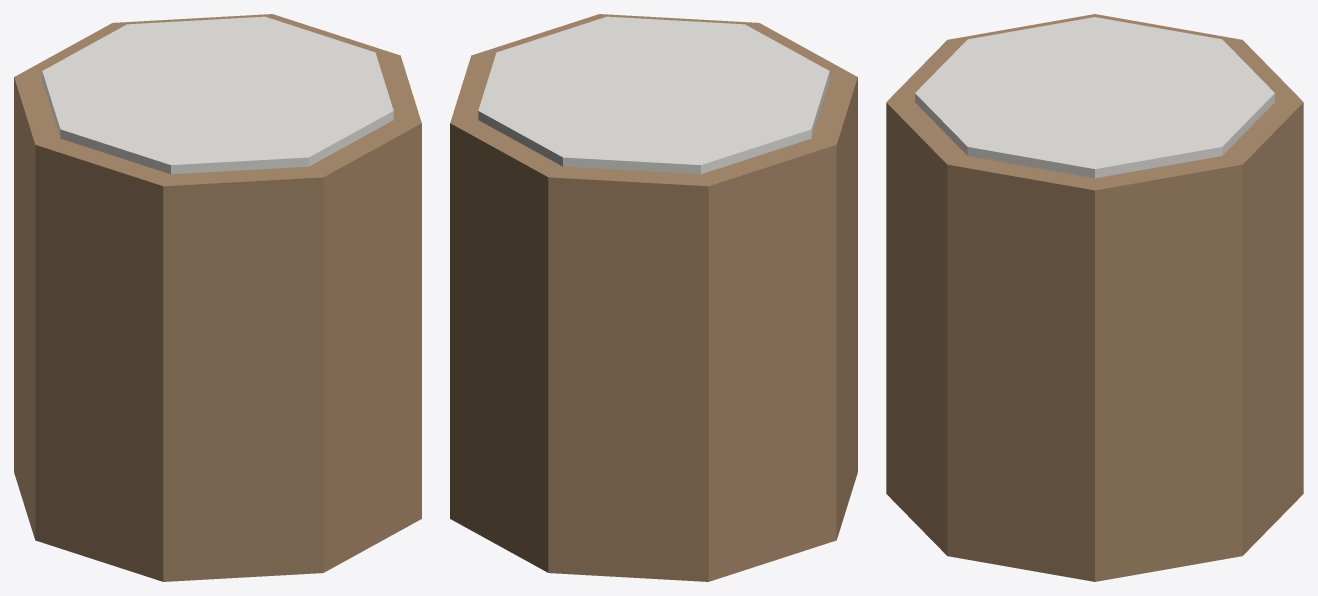
The picture shows the model from 3 angles, left to right: view 1: azimuth 30°, elevation 25°; view 2: azimuth 150°, elevation 25°; view 3: azimuth 270°, elevation 25°; orthographic projection.
Visible parts, largest first — view 1: Stump, Top; view 2: Stump, Top; view 3: Stump, Top.
Part boxes in pixels (bbox=[...]): Stump: bbox=[14, 14, 421, 581]; Top: bbox=[42, 16, 393, 174]; Stump: bbox=[450, 14, 857, 581]; Top: bbox=[478, 16, 829, 174]; Stump: bbox=[886, 14, 1303, 581]; Top: bbox=[915, 17, 1274, 178].
Bounding box in the file's own units: 0.58 × 0.614 × 0.58.
